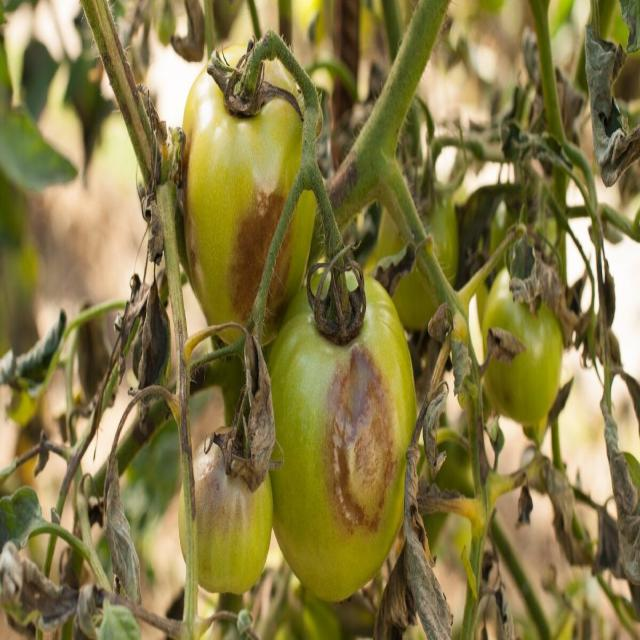damaged: (270, 263, 422, 604), (162, 42, 316, 352), (180, 424, 278, 606)
